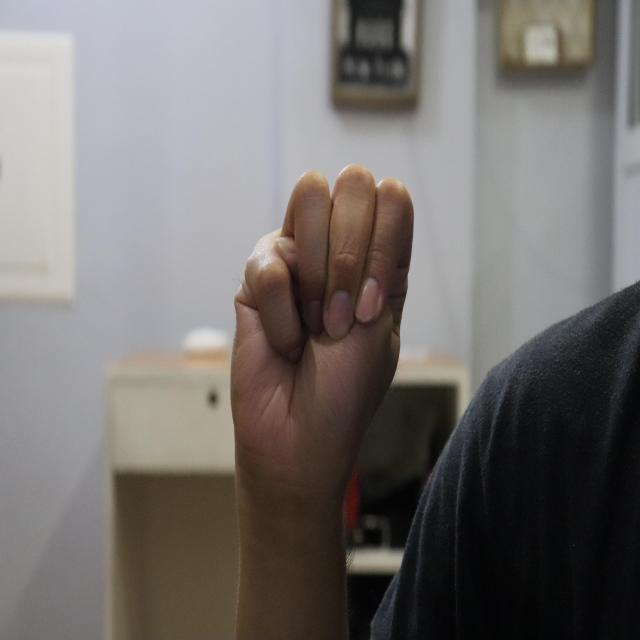M: (230, 163, 414, 507)
